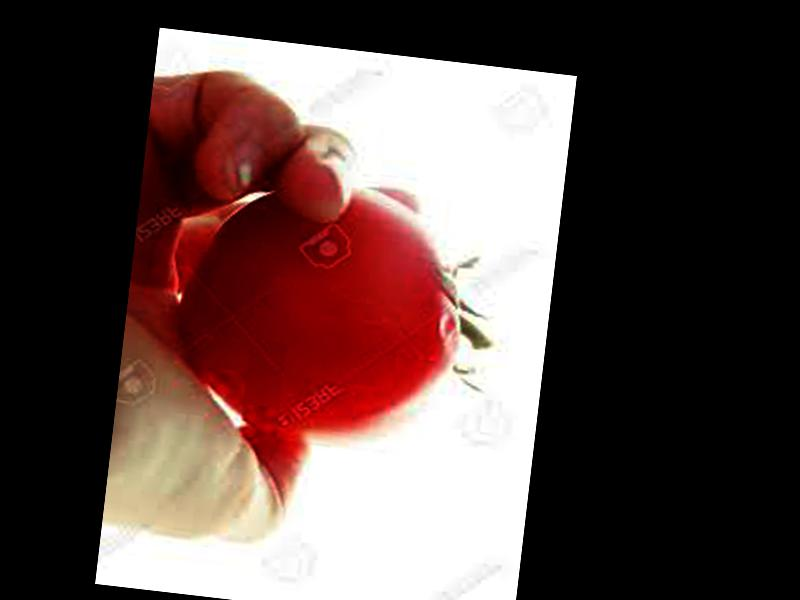Tomato: (171, 167, 479, 456)
